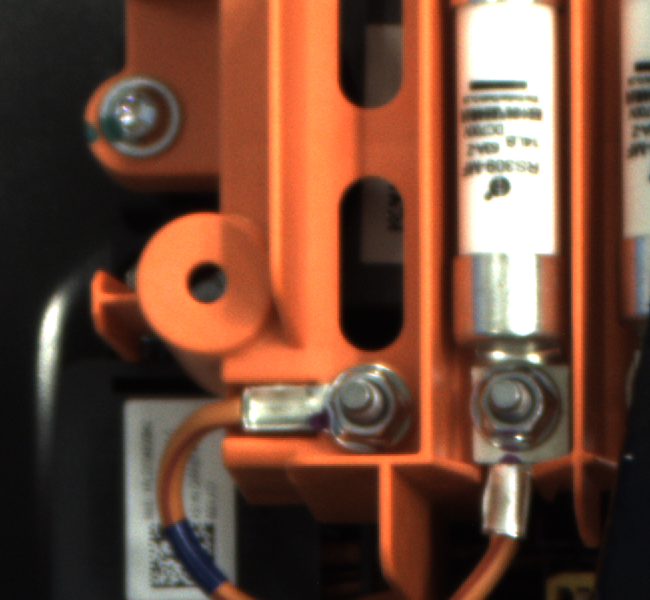screw_m: (90, 73, 191, 165)
screw_s: (309, 360, 415, 444), (456, 365, 556, 451)
